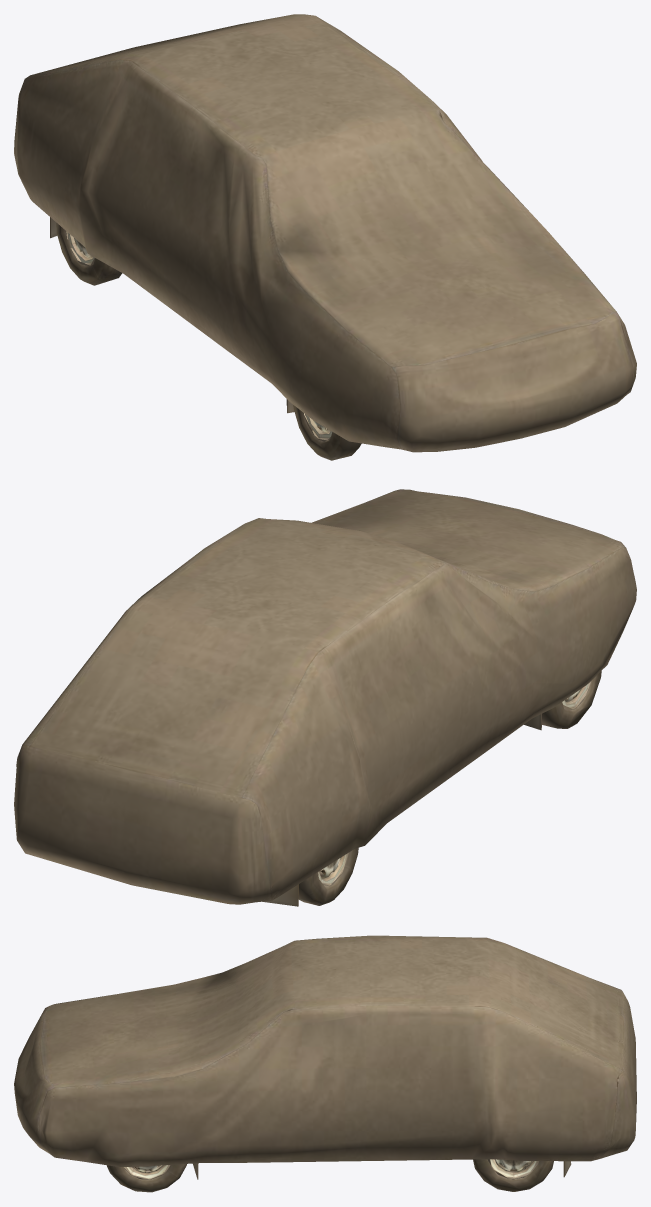
File: covered_car.glb
3 views of the same model, one above another, from view 1: azimuth 30°, elevation 25°; view 2: azimuth 150°, elevation 25°; view 3: azimuth 270°, elevation 25° (orthographic). The views are drawn at different scales.
Parts seen in each view (by area): view 1: covered_car; view 2: covered_car; view 3: covered_car.
Part boxes in pixels (box(x1,y1,x2,y2)): covered_car: box(14, 14, 636, 460); covered_car: box(14, 489, 636, 906); covered_car: box(14, 935, 636, 1192).
Bounding box in the file's own units: 1.79 × 1.41 × 4.38.
1 material, 1 textured.
